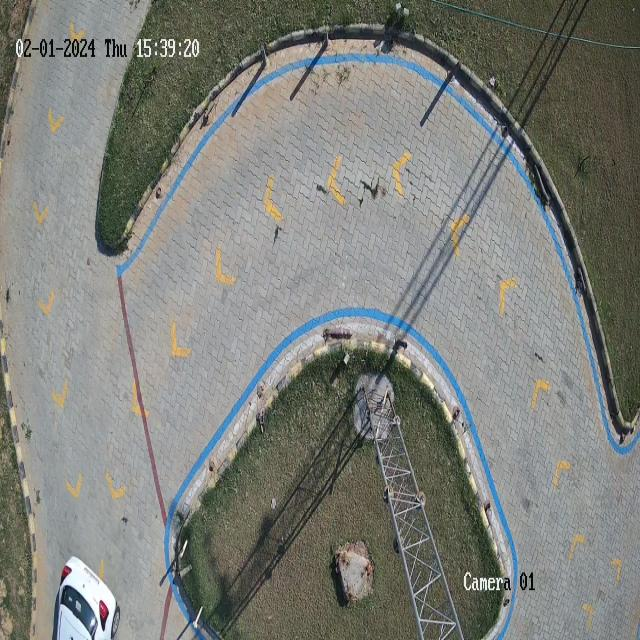car: (51, 557, 118, 640)
